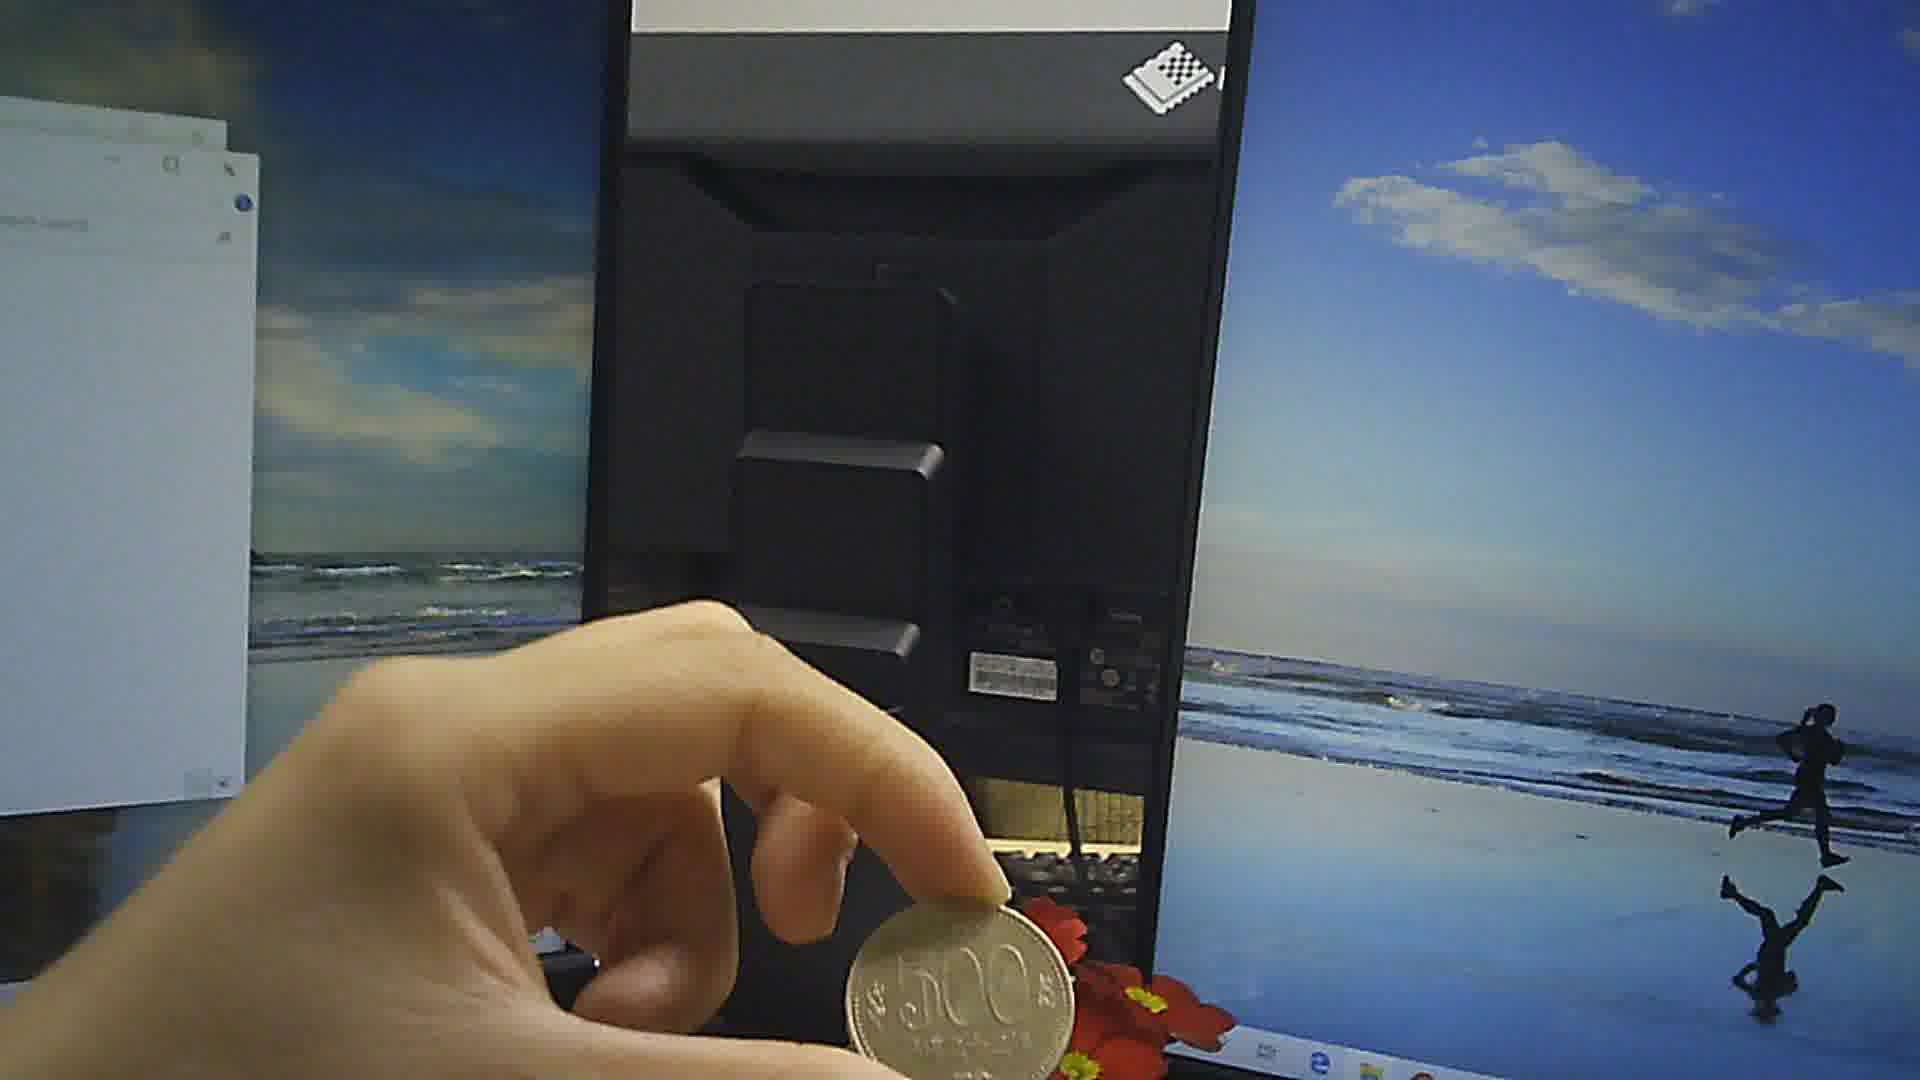500 Yen: (833, 891, 1068, 1079)
